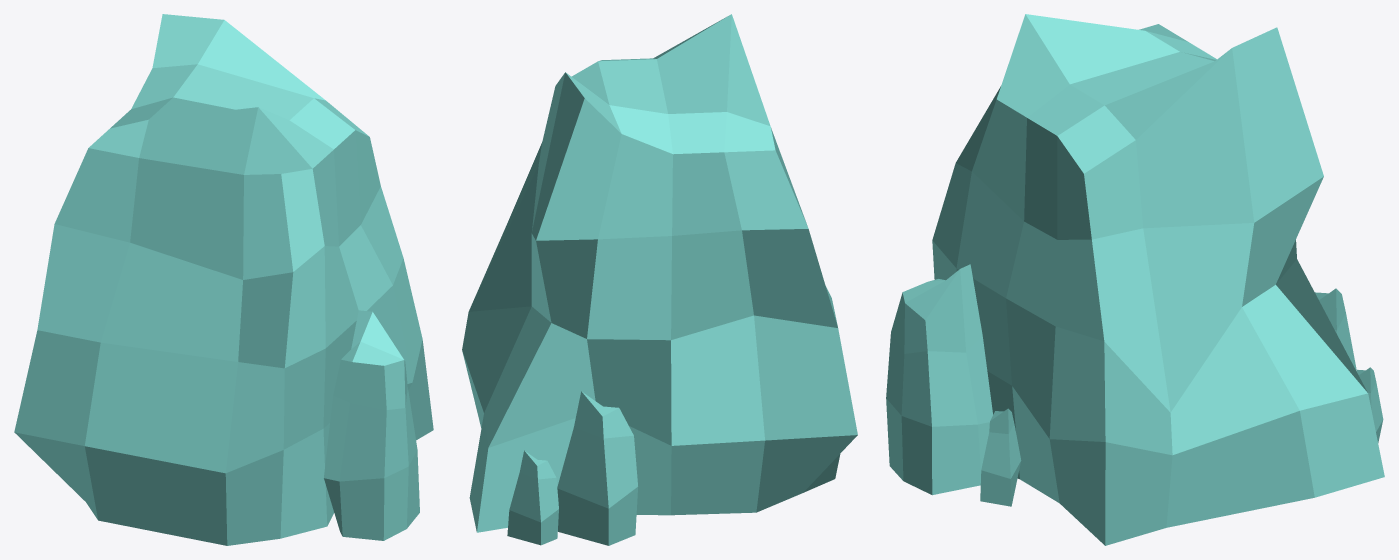
Rendered from IceBlock_01_vf.FBX.
3 renders of one model, left to right at view 1: azimuth 30°, elevation 25°; view 2: azimuth 150°, elevation 25°; view 3: azimuth 270°, elevation 25°, orthographic. The views are drawn at different scales.
Parts seen in each view (by area): view 1: Box036; view 2: Box036; view 3: Box036.
Boxes of the visible parts, x1,y1,x2,y2 form: Box036: [14, 14, 433, 545]; Box036: [462, 14, 857, 545]; Box036: [886, 14, 1384, 545].
Size of the model in its own units: 201 by 198 by 208.
1 material, 1 textured.
